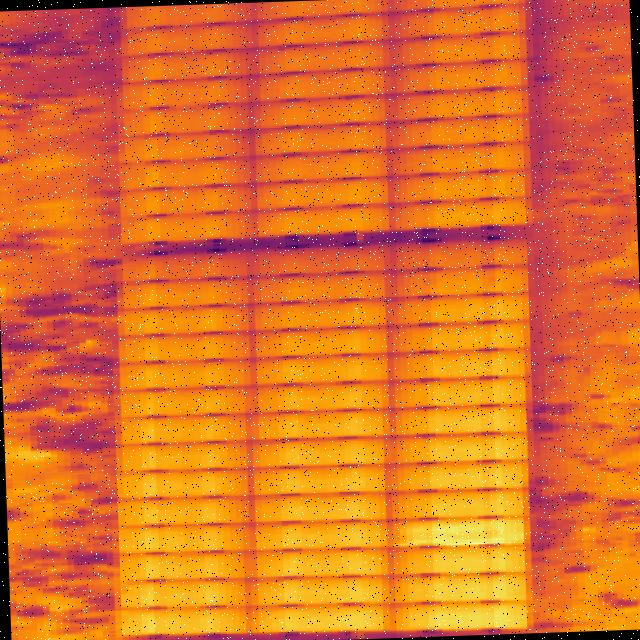Hotspot: (388, 515, 533, 551), (404, 600, 538, 634), (410, 572, 532, 602)
